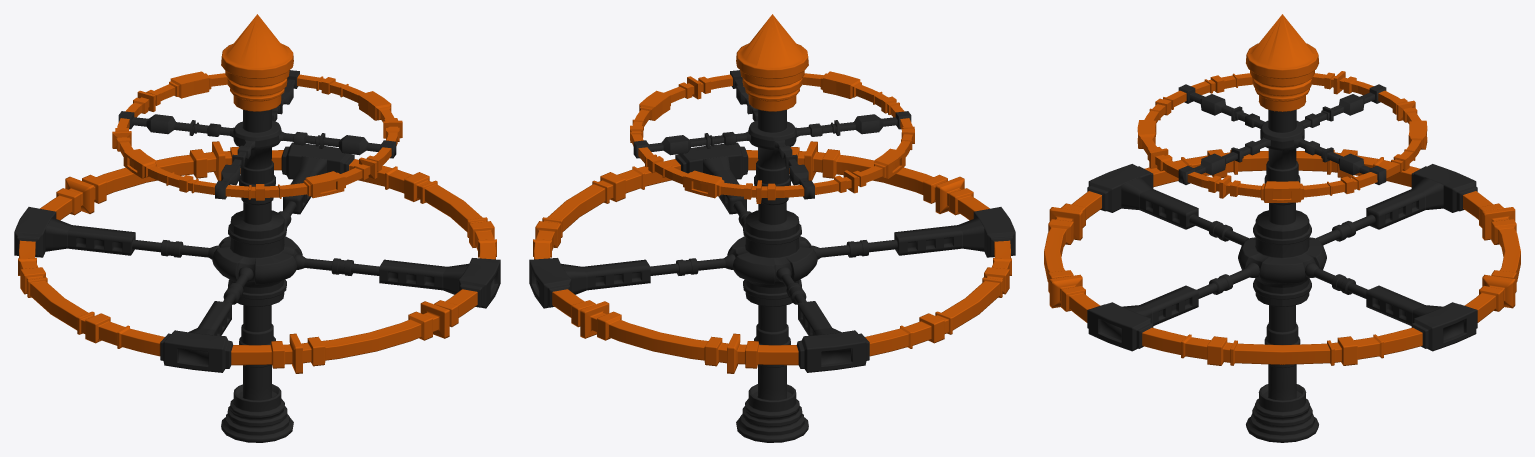
File: situation_orange.glb
3 views of the same model, side by side, from view 1: azimuth 30°, elevation 25°; view 2: azimuth 150°, elevation 25°; view 3: azimuth 270°, elevation 25° (orthographic).
Parts seen in each view (by area): view 1: external_smaller; view 2: external_smaller; view 3: external_smaller.
Part boxes in pixels (x1,y1,x2,y2): external_smaller: [14, 14, 500, 442]; external_smaller: [529, 14, 1015, 442]; external_smaller: [1044, 14, 1520, 442].
Size of the model in its own units: 7.45 by 7.14 by 7.45.
